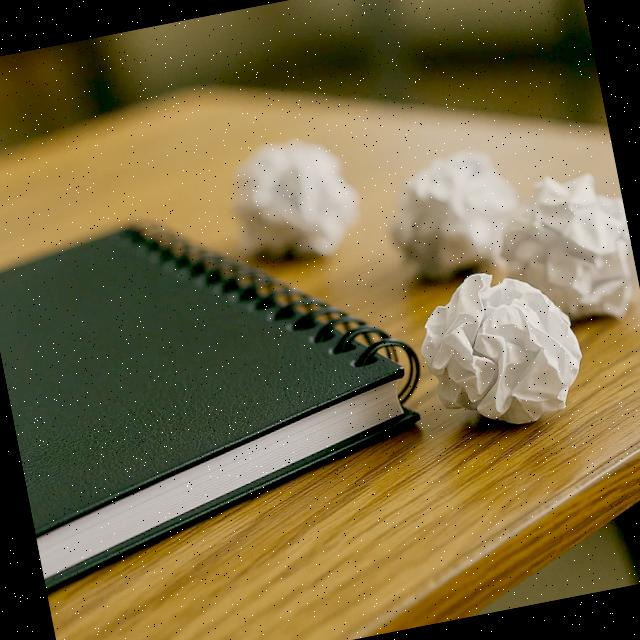paper: (412, 262, 590, 438), (489, 164, 640, 325)
